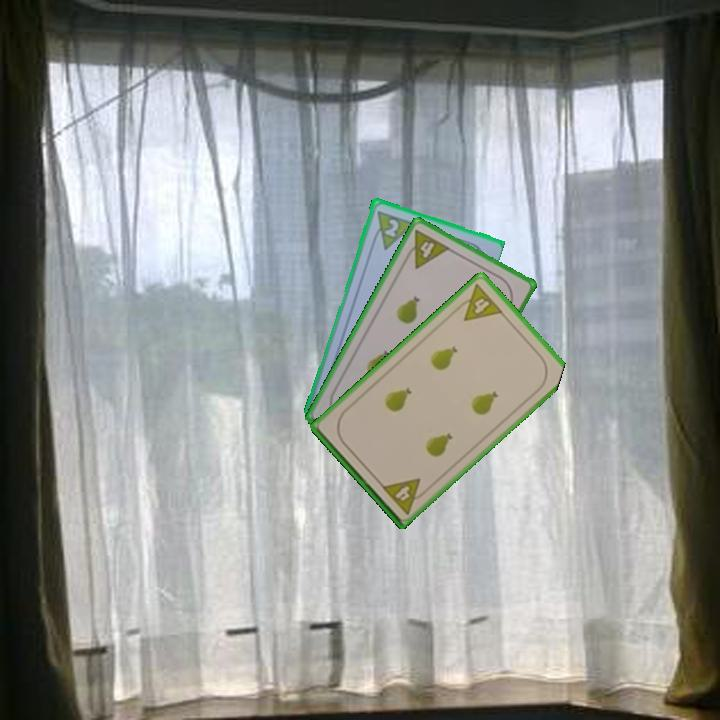2p: (381, 215, 402, 240)
4p: (451, 280, 506, 324), (400, 226, 453, 271), (378, 474, 431, 517)
